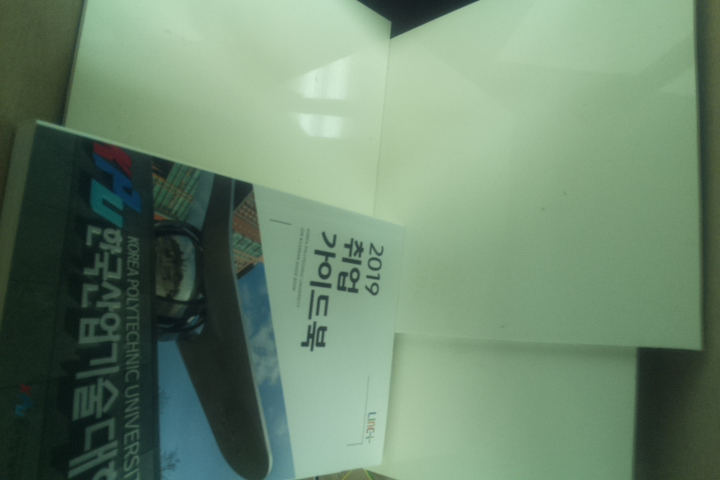book: (1, 113, 410, 480)
